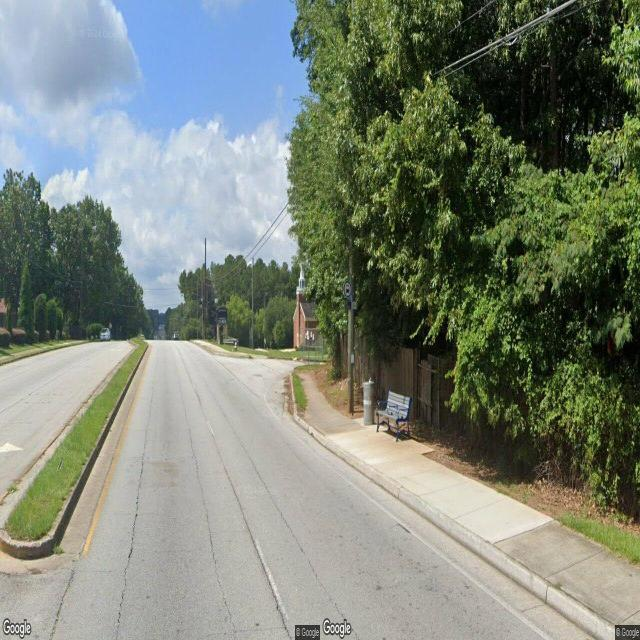seating: (376, 390, 412, 442)
trash_can: (364, 382, 374, 427)
